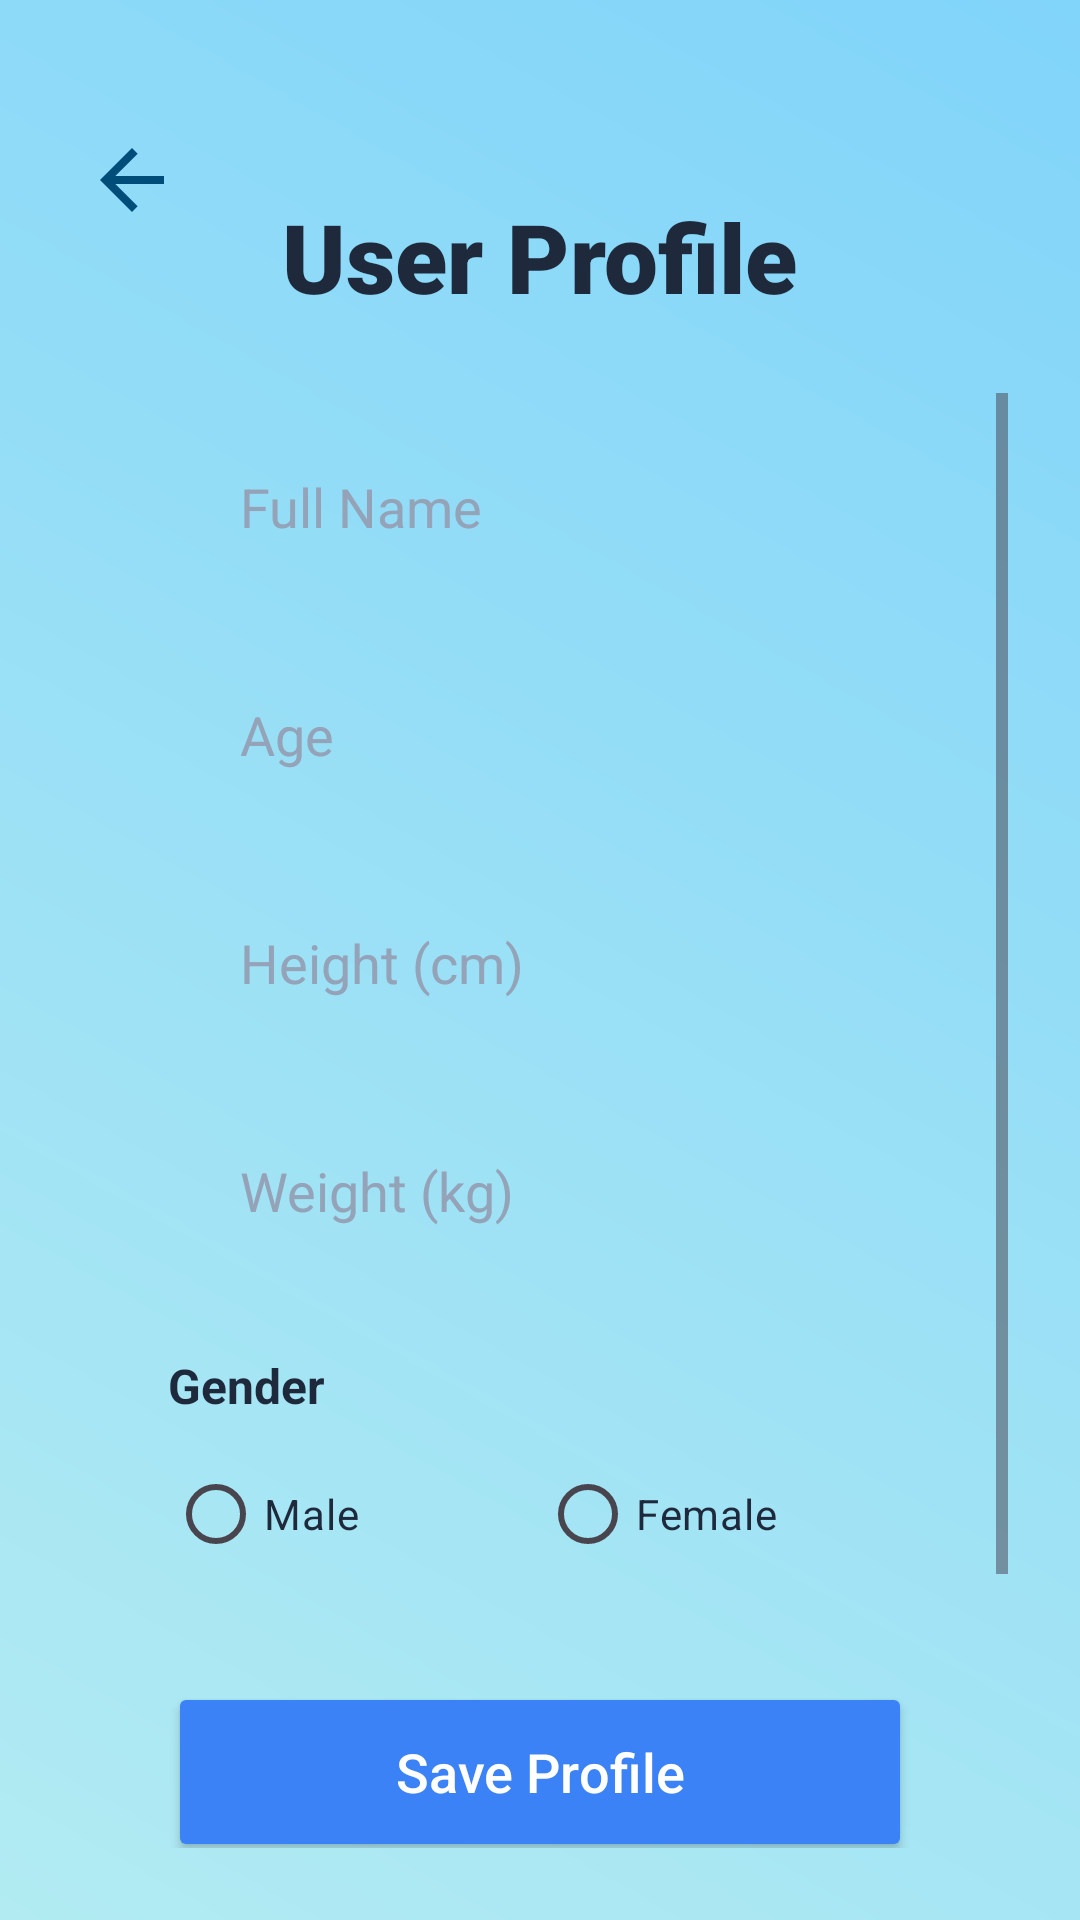

Screen size 1080 x 1920. Icon name, then its box in pixels as (left=x1, top=y1, right=x2, bottom=y2):
Back to Home: (left=100, top=148, right=164, bottom=212)
